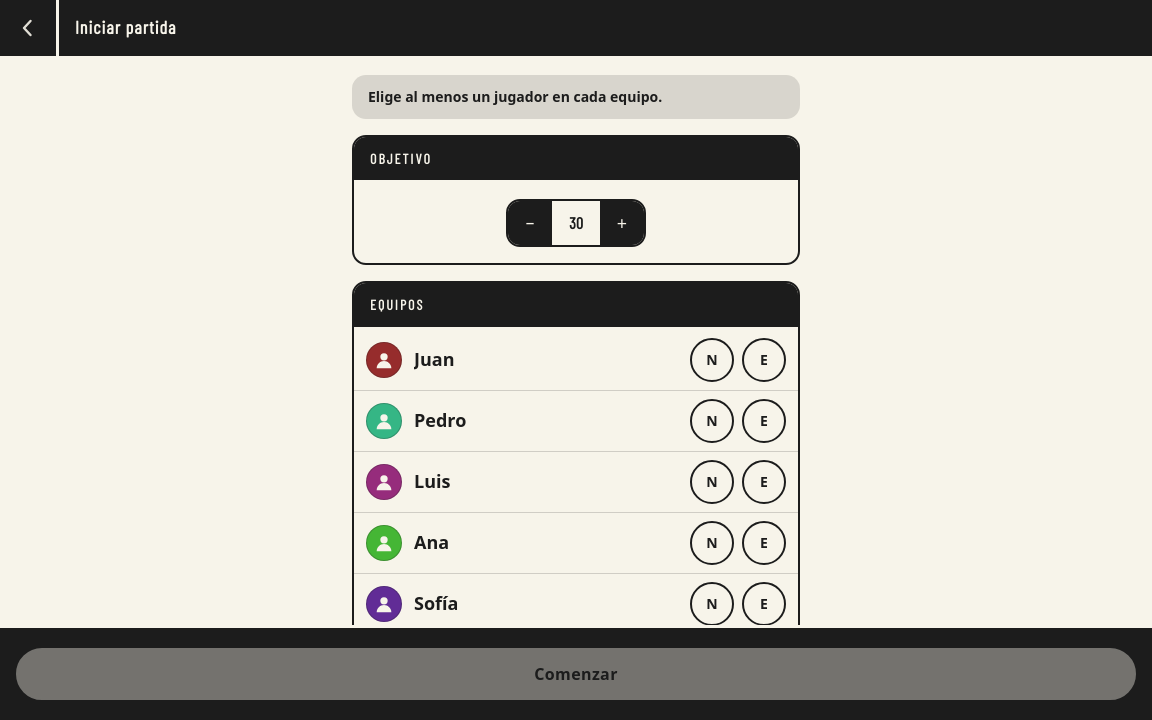
Test: StartGroupGameScreen › bloquea Comenzar si los equipos tienen distinta cantidad
Check: the text "Juan" is shown, box 414,347 -> 454,372
Click the button named "Agregar a Nosotros" at {"x": 712, "y": 360}, box 690,338 -> 734,382
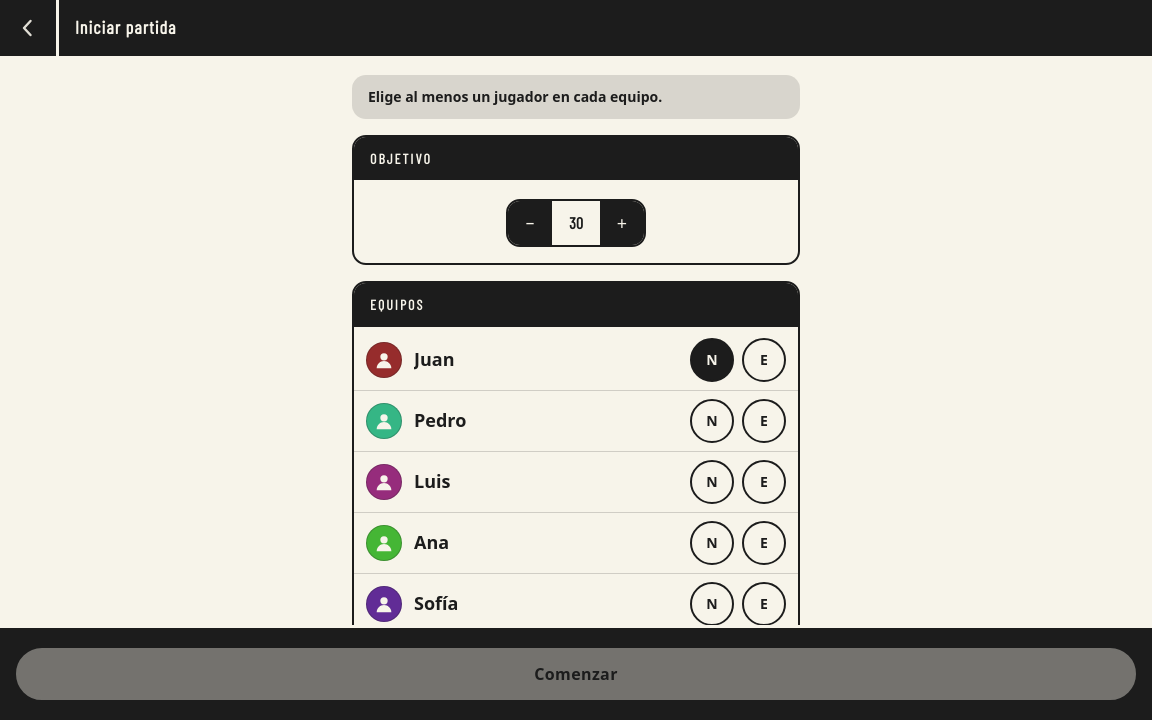
Click the button named "Agregar a Nosotros" at {"x": 712, "y": 421}, box 690,399 -> 734,443
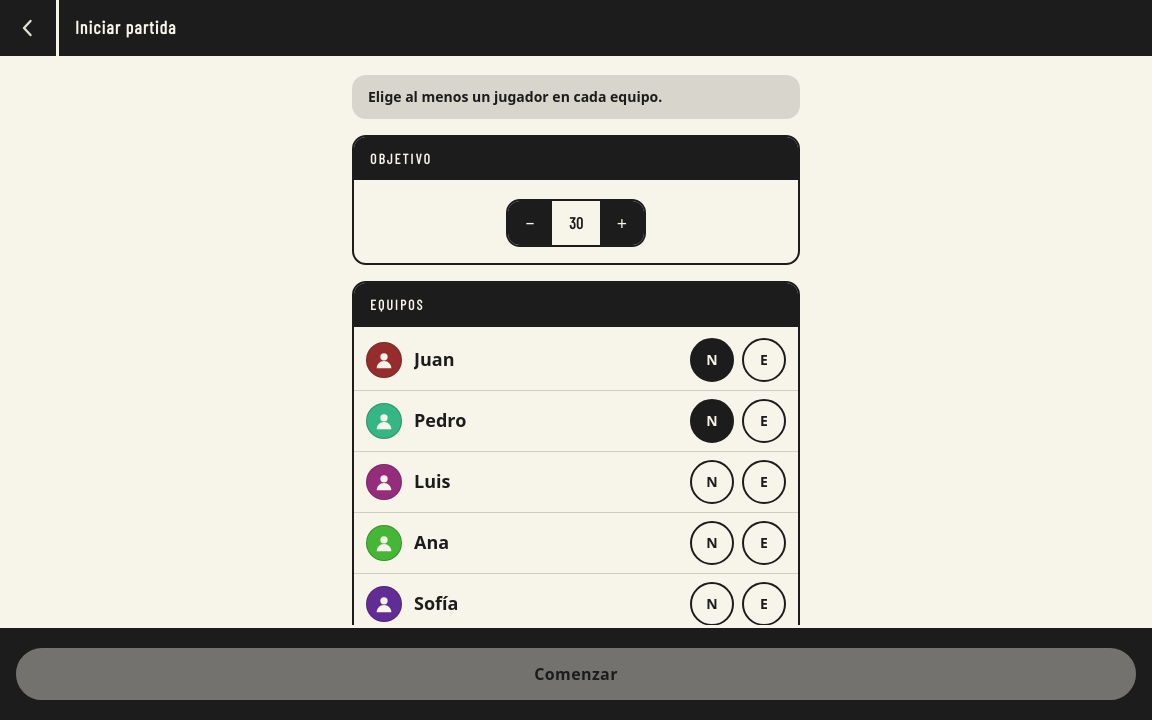
Click the button named "Agregar a Ellos" at {"x": 764, "y": 482}, box 742,460 -> 786,504
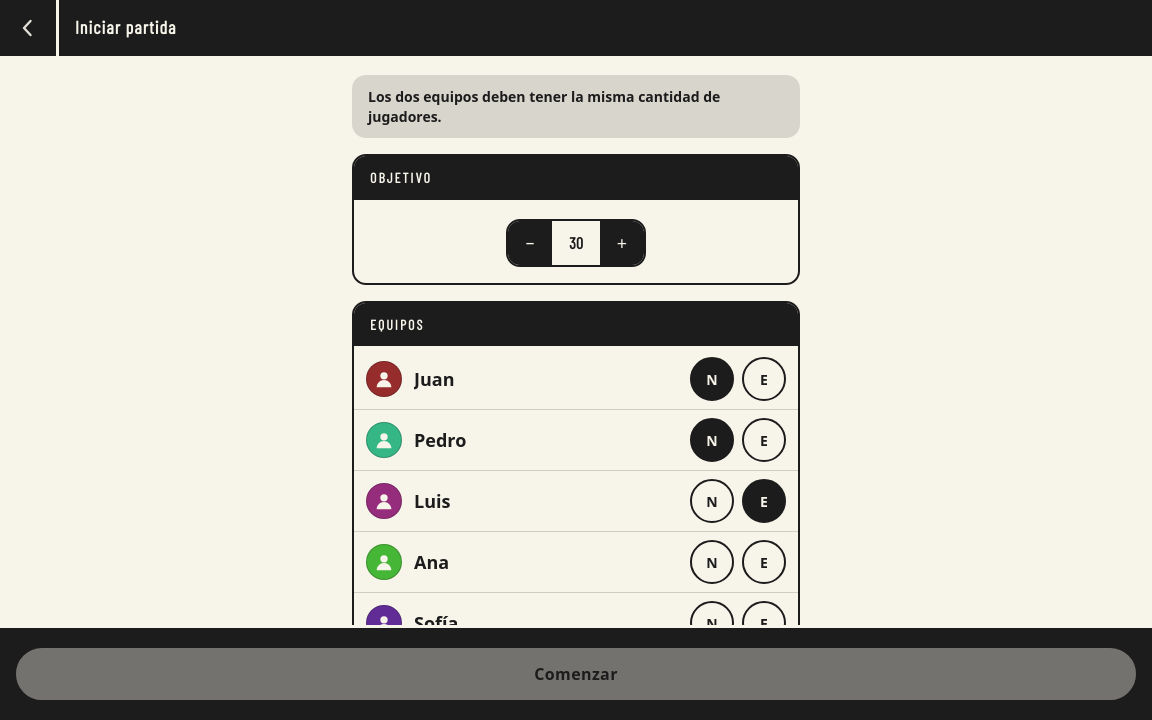
Check: the button "Comenzar" is disabled, box 16,648 -> 1136,700
Check: the message reads "Los dos equipos deben tener la misma cantidad de jugadores.", box 368,87 -> 720,126
